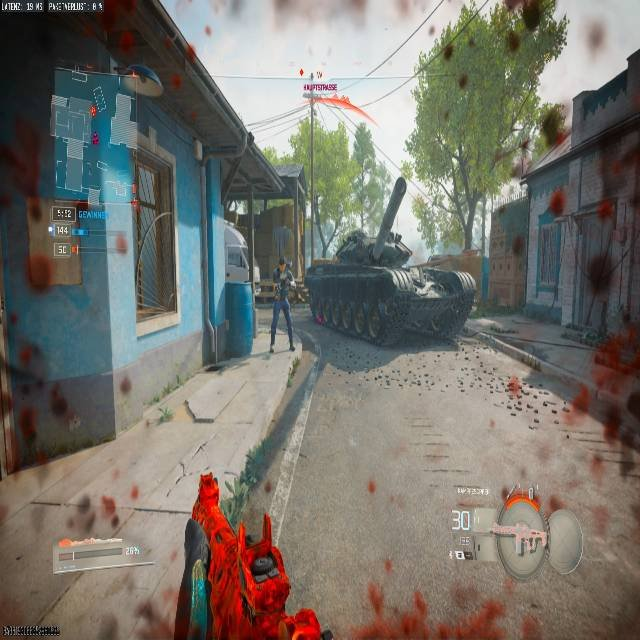head: (279, 258, 286, 267)
player: (270, 260, 297, 351)
